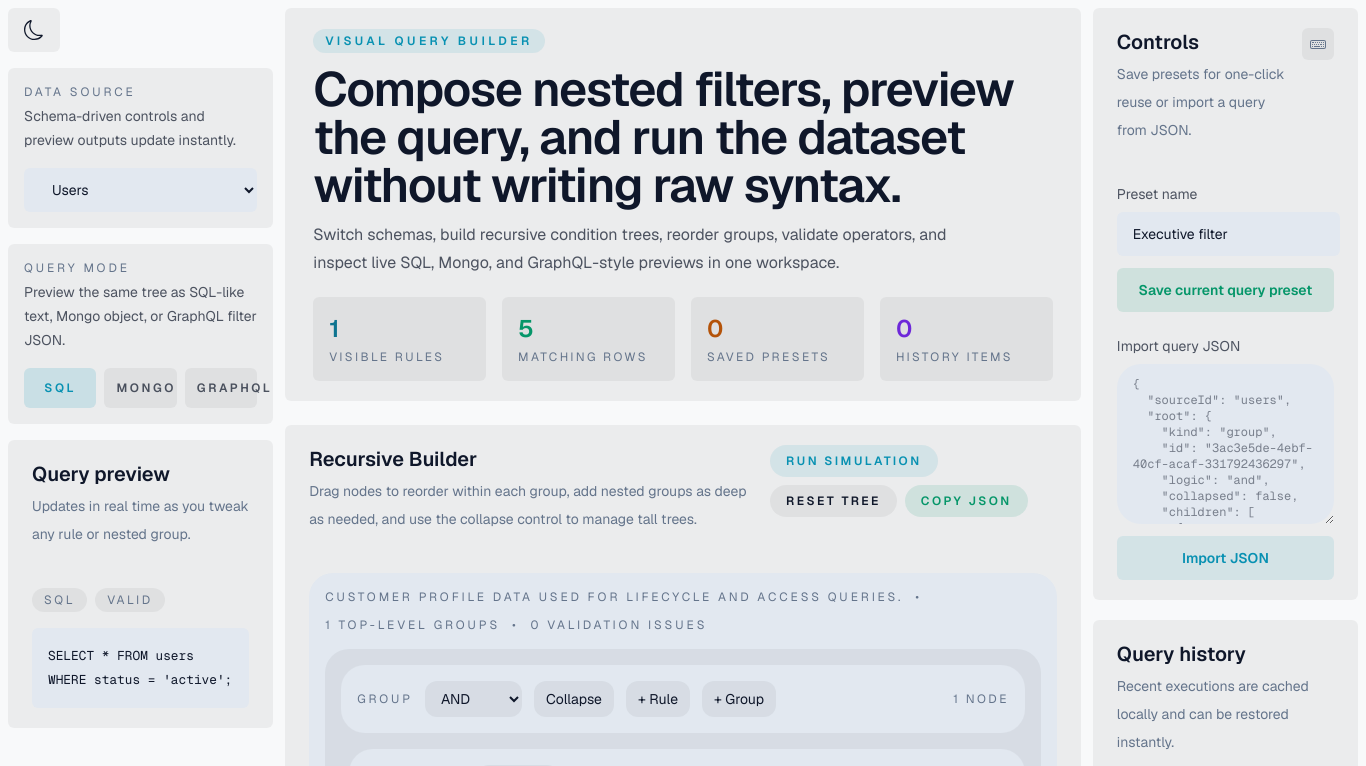
Scenario: query builder app › renders the recursive editor and supports adding groups and running a simulation
Expected: the text "Visual Query Builder" is shown, top-left (313, 29), bottom-right (544, 53)
Click the button "+ Rule": (658, 699) top-left (626, 681), bottom-right (690, 717)
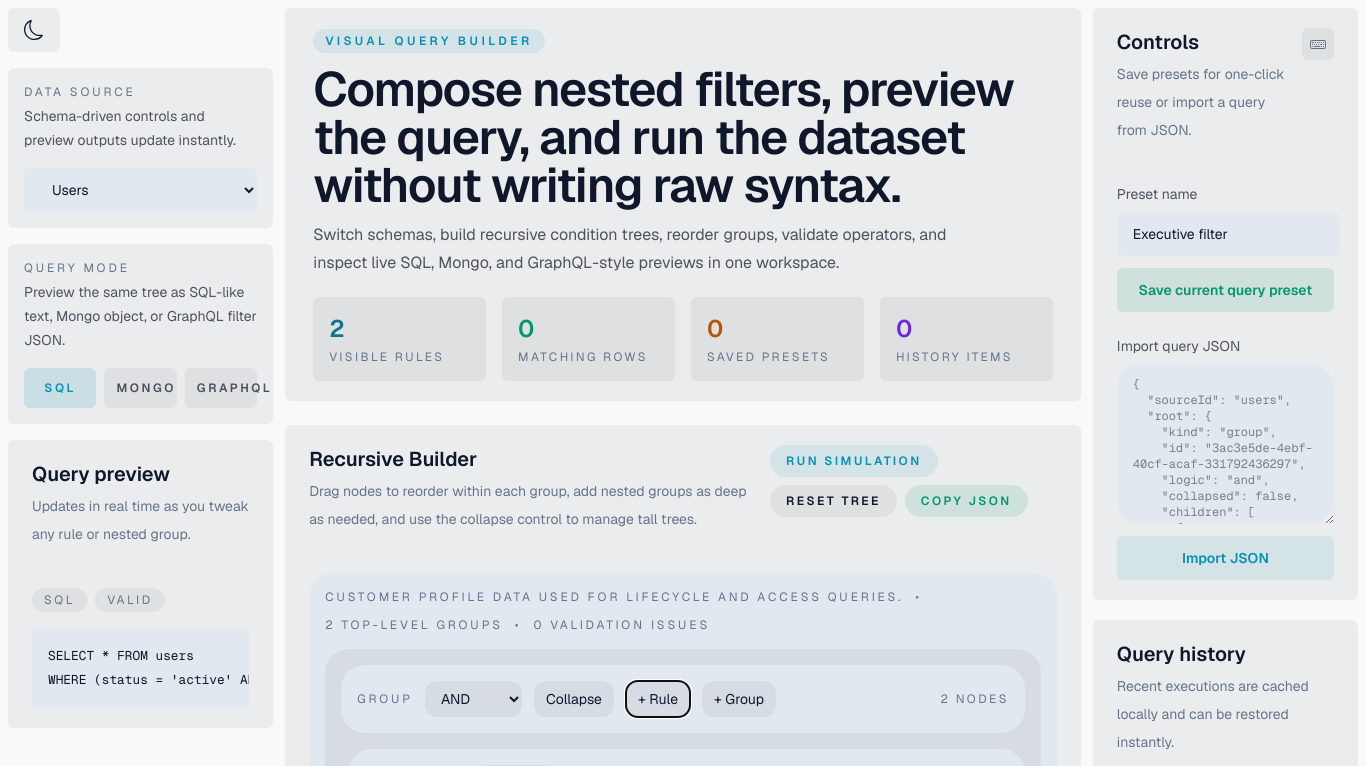
Click the button "mongo": (141, 388) top-left (104, 368), bottom-right (177, 408)
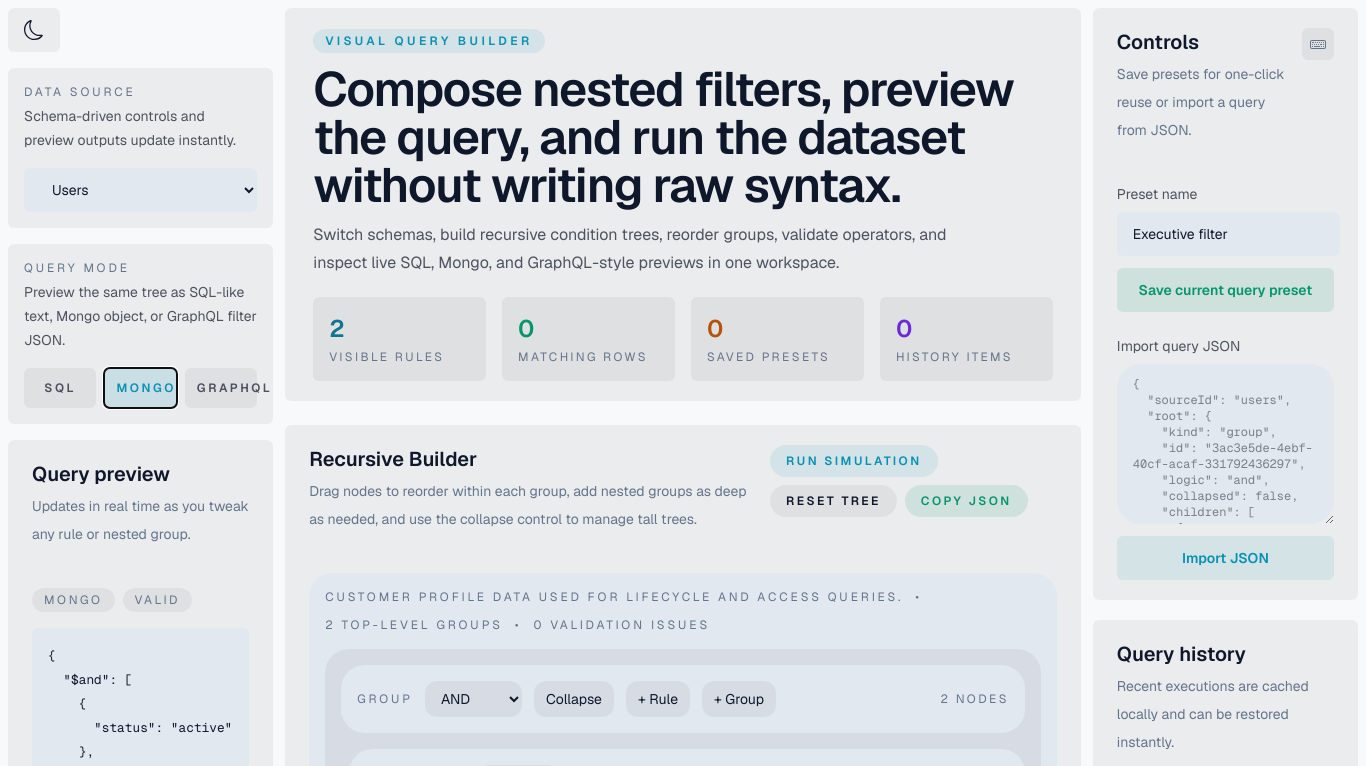
Click the button "Run simulation": (854, 461) top-left (770, 445), bottom-right (938, 477)
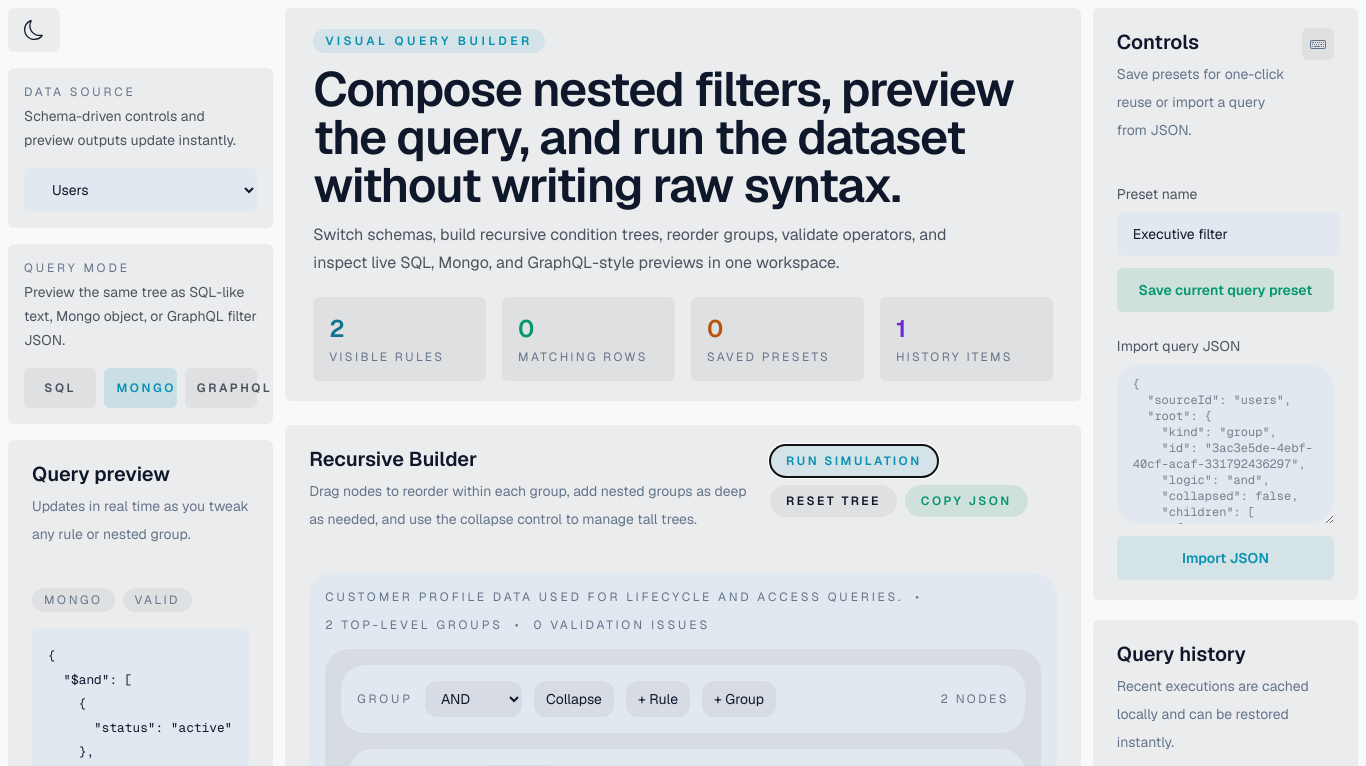
Expected: the text "1" is shown, top-left (896, 313), bottom-right (906, 344)
